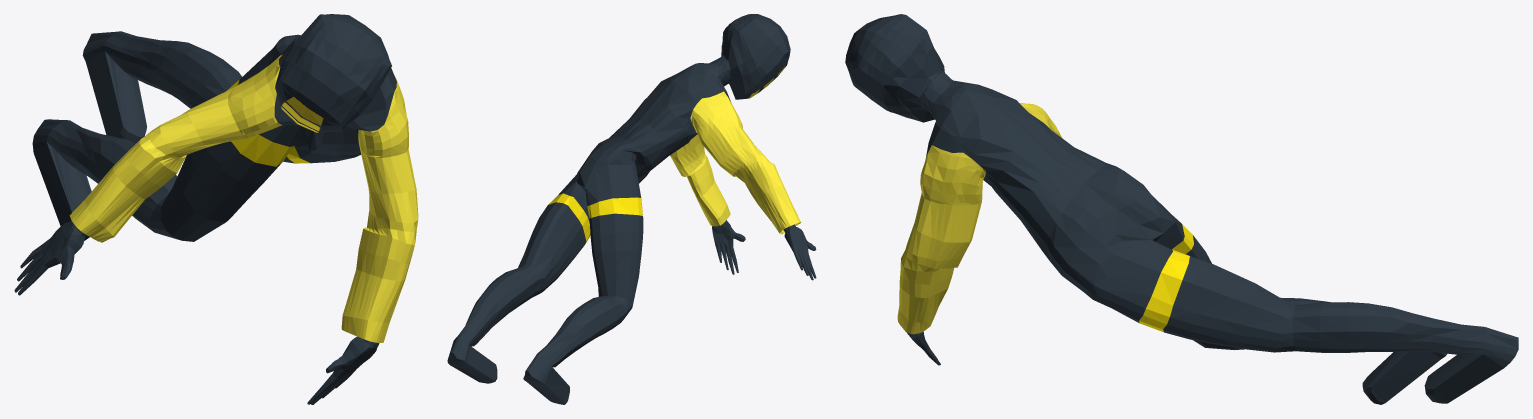
Rendered from Sentry_Die_000011.obj.
3 renders of one model, left to right at view 1: azimuth 30°, elevation 25°; view 2: azimuth 150°, elevation 25°; view 3: azimuth 270°, elevation 25°, orthographic. The views are drawn at different scales.
Parts seen in each view (by area): view 1: Cube; view 2: Cube; view 3: Cube.
Part boxes in pixels (x1=…): Cube: x1=14, y1=14, x2=418, y2=404; Cube: x1=447, y1=14, x2=816, y2=404; Cube: x1=845, y1=14, x2=1518, y2=404.
Size of the model in its own units: 1.95 by 2.09 by 3.42.
